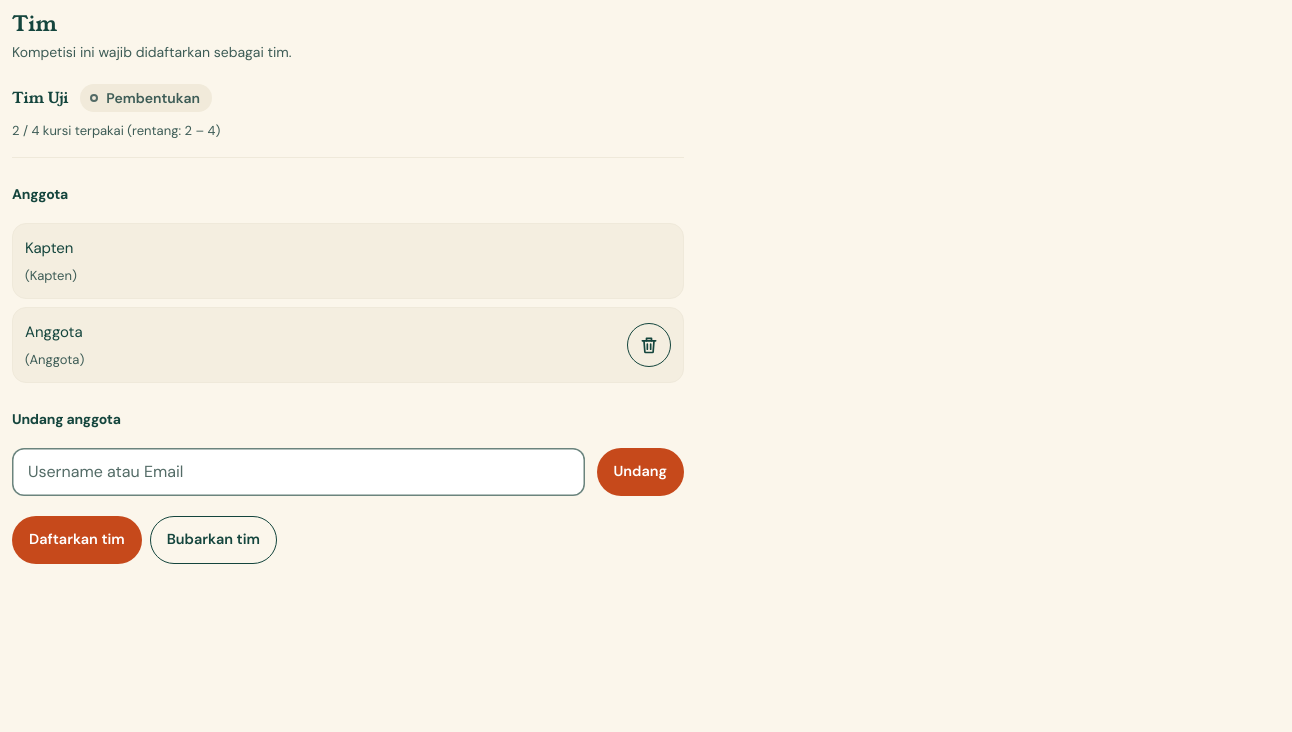
Test: the team section's refusals › names the organiser's payment problem when the captain registers the team
What coordinates should you click on to do the following:
click the button "Daftarkan tim"
I would click on:
 (77, 540)
Its box is [12,516,142,564].
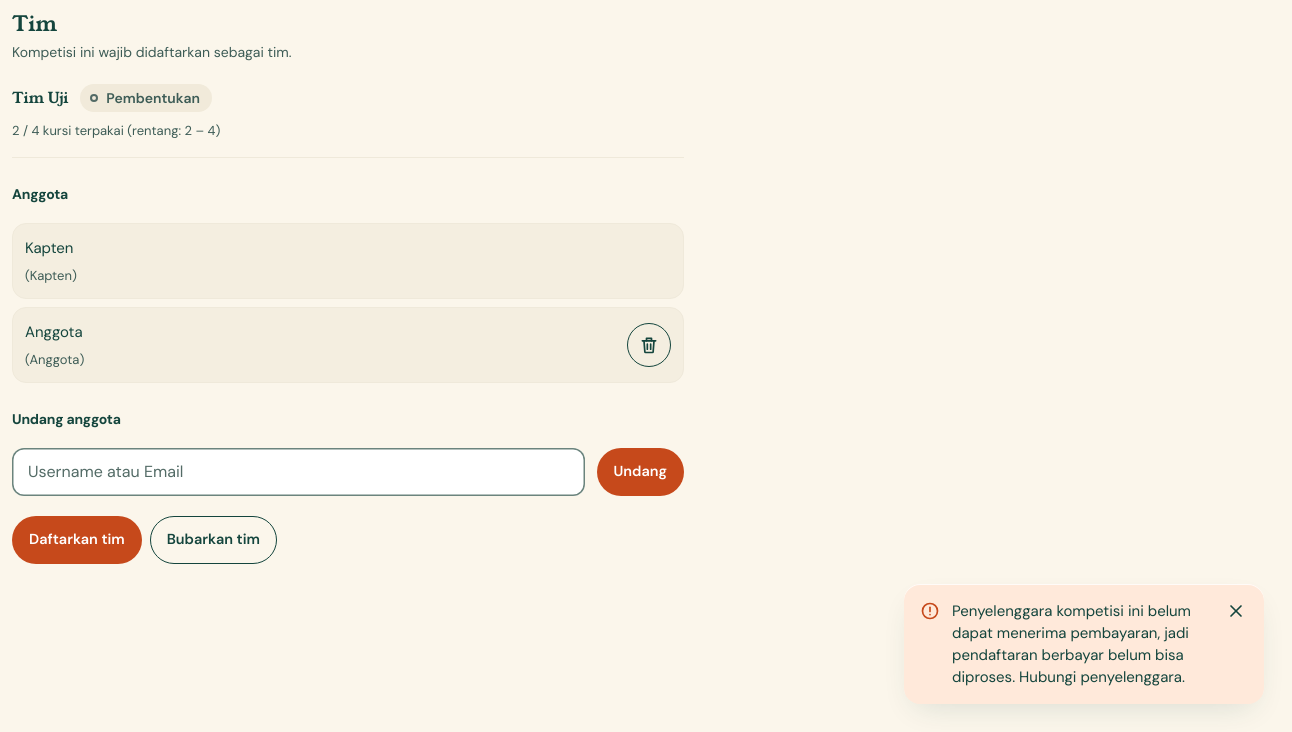
Expected: the text "Penyelenggara kompetisi ini belum dapat menerima pembayaran, jadi pendaftaran berbayar belum bisa diproses. Hubungi peny" is shown, [952,601,1191,687]
